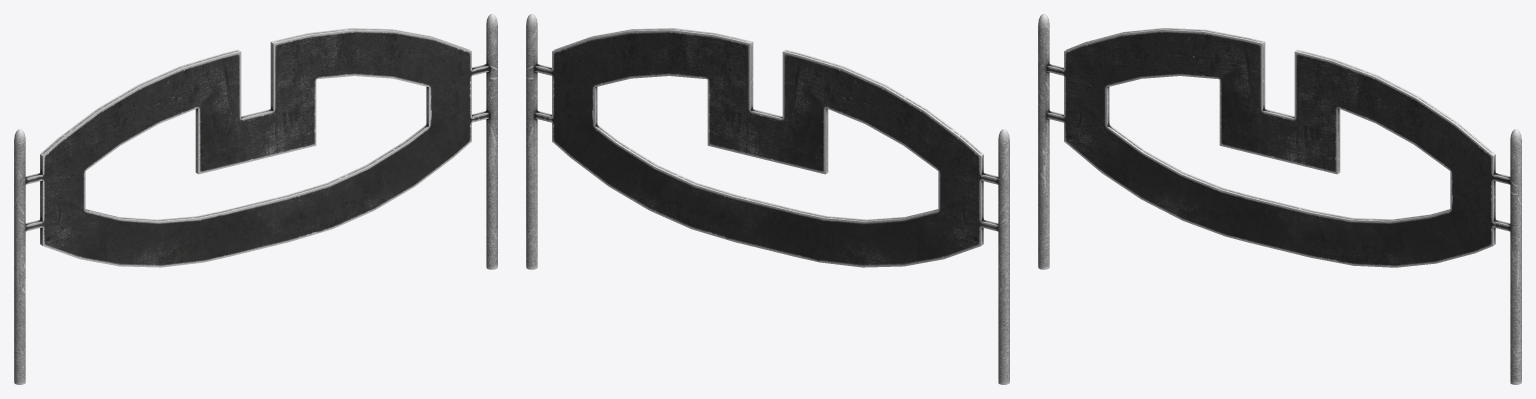
Rendered from zab_1.obj.
3 renders of one model, left to right at view 1: azimuth 30°, elevation 25°; view 2: azimuth 150°, elevation 25°; view 3: azimuth 330°, elevation 25°, orthographic.
Visible parts, largest first — view 1: ________0; view 2: ________0; view 3: ________0.
Part boxes in pixels (bbox=[...]): ________0: bbox=[14, 14, 497, 384]; ________0: bbox=[526, 14, 1009, 384]; ________0: bbox=[1038, 14, 1521, 384].
Bounding box in the file's own units: 0.957 × 0.5276 × 0.02.
1 material, 1 textured.
